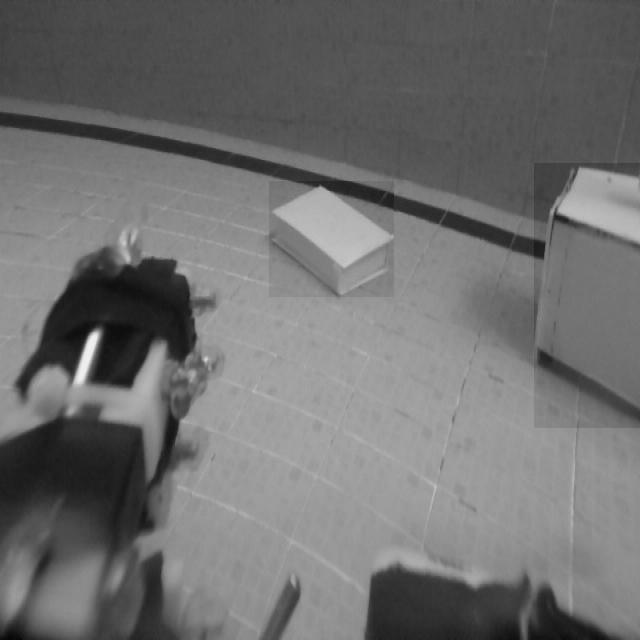Cube: (534, 163, 640, 428)
Cuboid: (269, 182, 394, 298)
